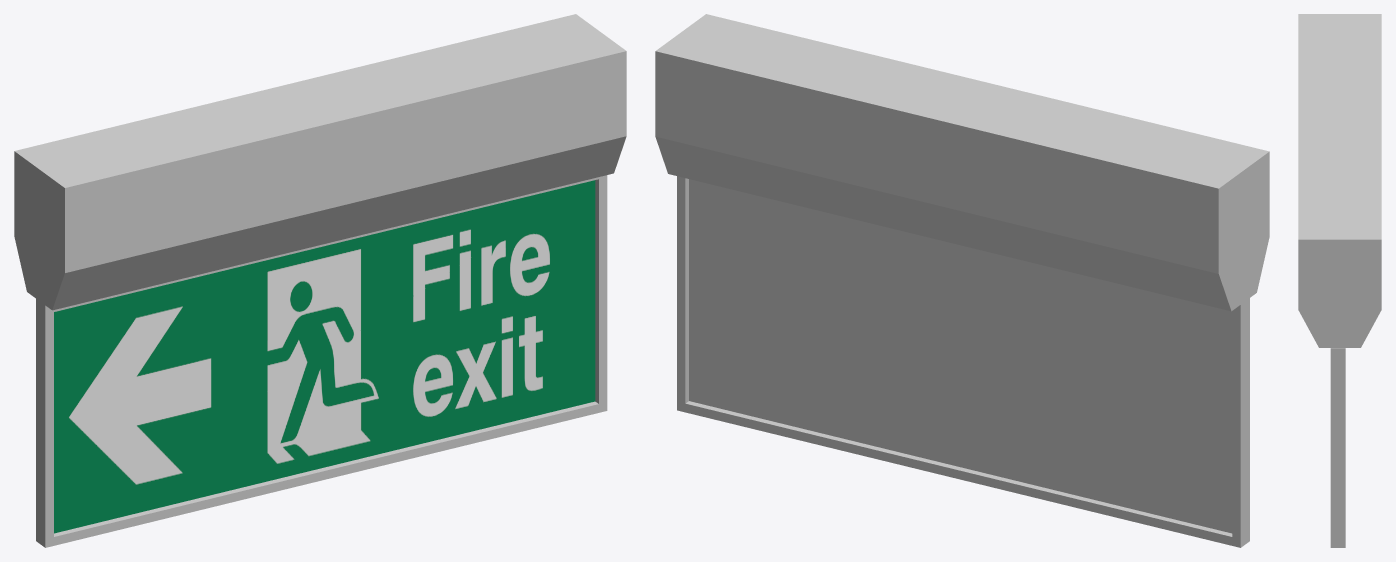
The model's file is FireExit.fbx.
The picture shows the model from 3 angles, left to right: view 1: azimuth 30°, elevation 25°; view 2: azimuth 150°, elevation 25°; view 3: azimuth 270°, elevation 25°; orthographic projection. The views are drawn at different scales.
Visible parts, largest first — view 1: FireExitLeft; view 2: FireExitLeft; view 3: FireExitLeft.
Part boxes in pixels (bbox=[...]): FireExitLeft: bbox=[14, 14, 626, 547]; FireExitLeft: bbox=[655, 14, 1269, 547]; FireExitLeft: bbox=[1298, 14, 1381, 547].
Size of the model in its own units: 42.28 by 26.9 by 6.6.
